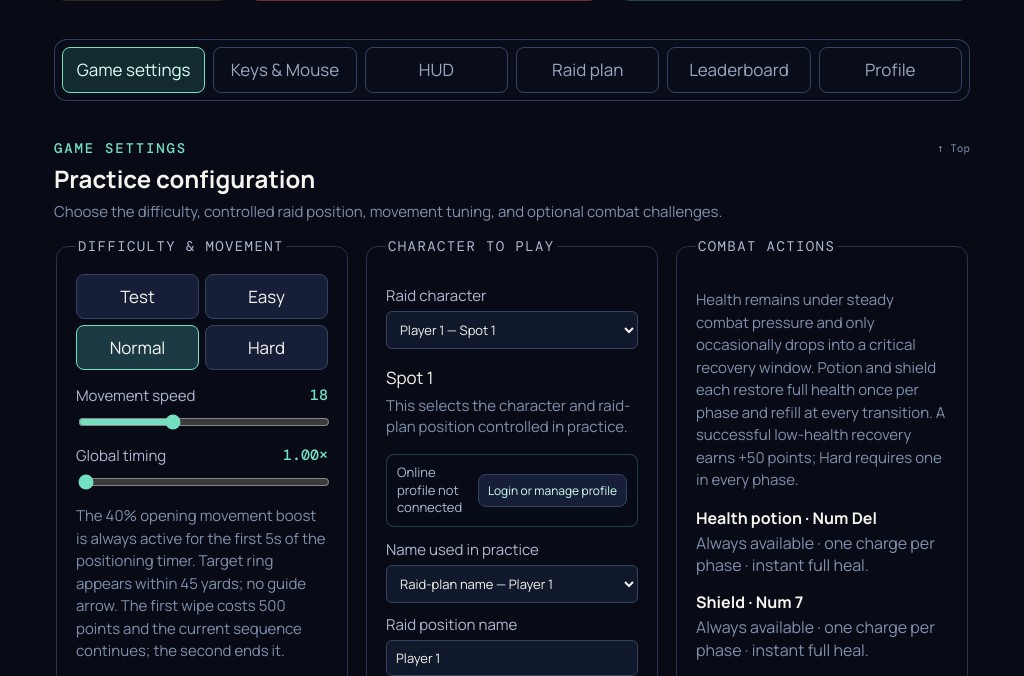
player menu › explains recoverable wipes outside Hard mode
(page scrolled)
Expected: the text "first wipe costs 500 points" is shown, x1=76 y1=595 x2=302 y2=661
Click the button "hard" at (266, 348), box x1=205 y1=325 x2=328 y2=370
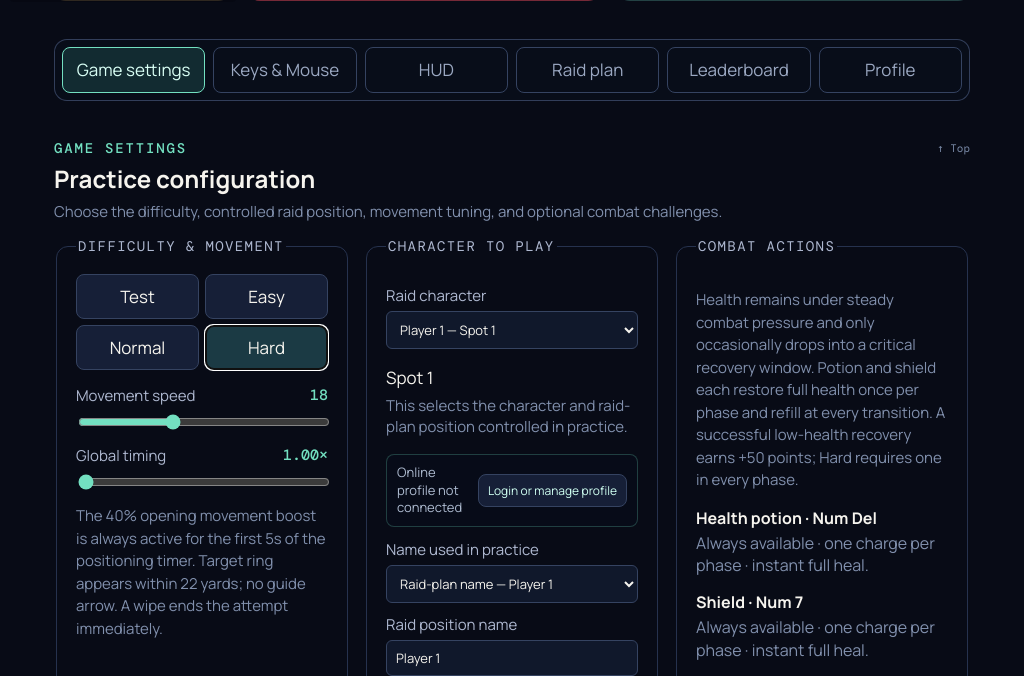
Now the text "wipe ends the attempt immediately" is shown, box x1=76 y1=595 x2=288 y2=639
